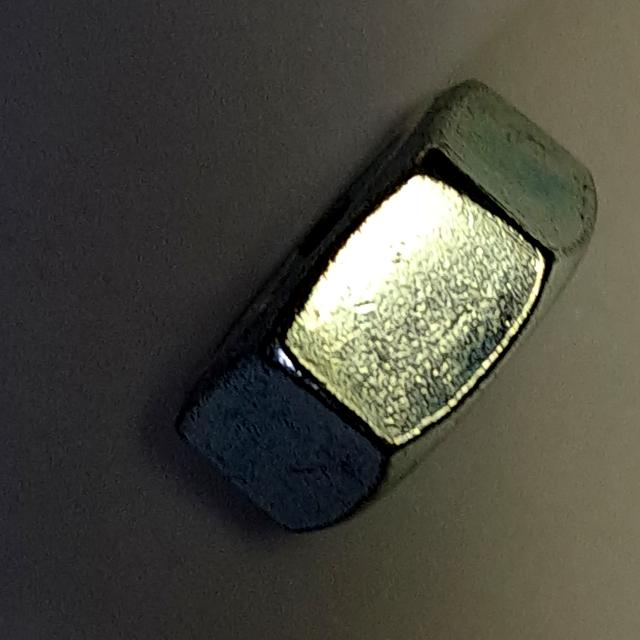Side_Excellent: (158, 68, 614, 542)
